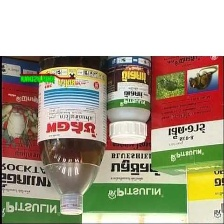book: (68, 56, 192, 220), (0, 51, 89, 223), (146, 21, 224, 178), (170, 92, 223, 223)
insecticide: (34, 34, 109, 216), (102, 44, 153, 146)
